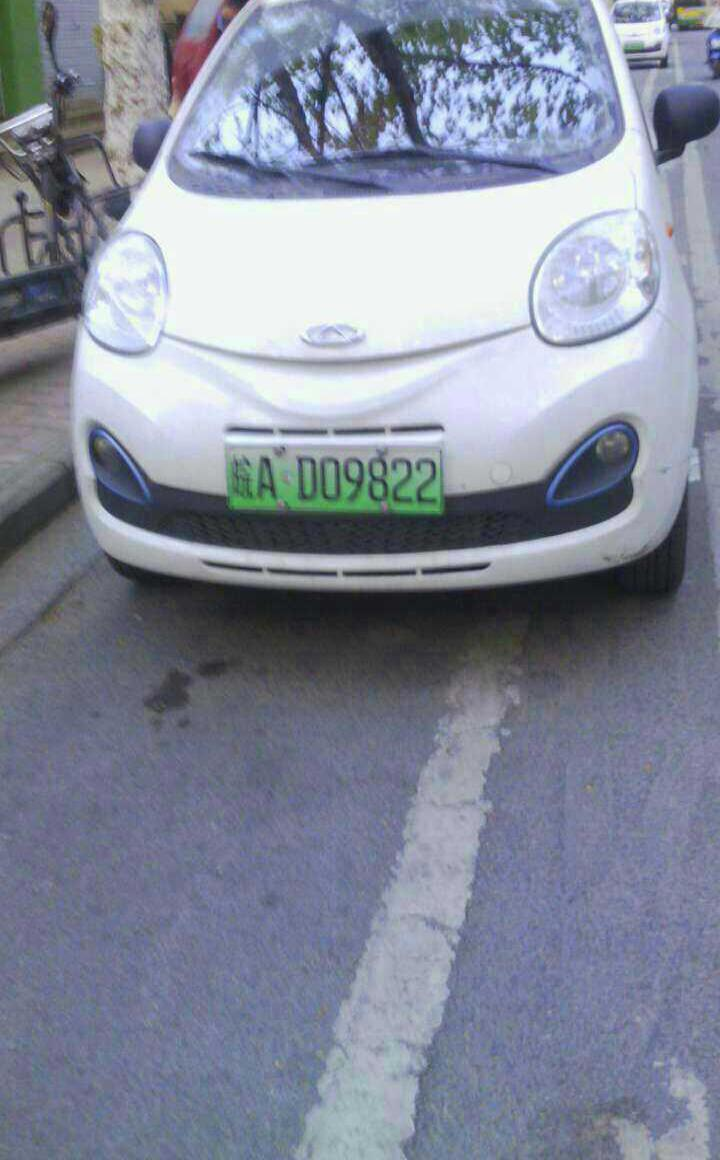car_id: (224, 443, 442, 512)
